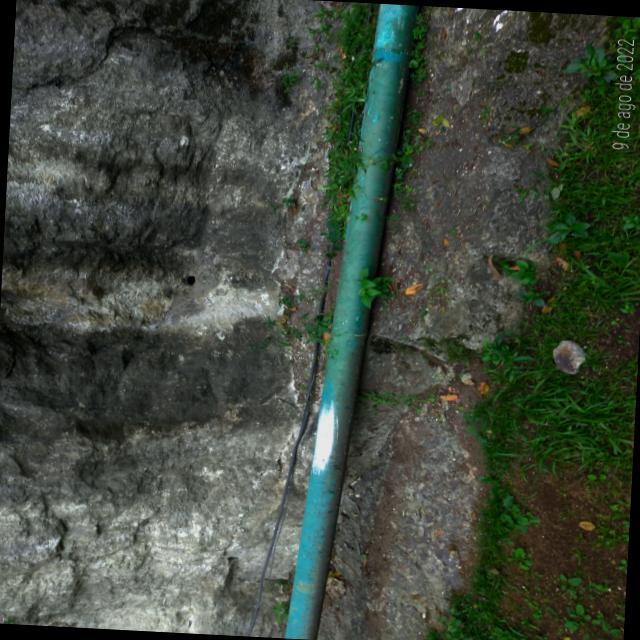gas: (280, 0, 420, 640)
